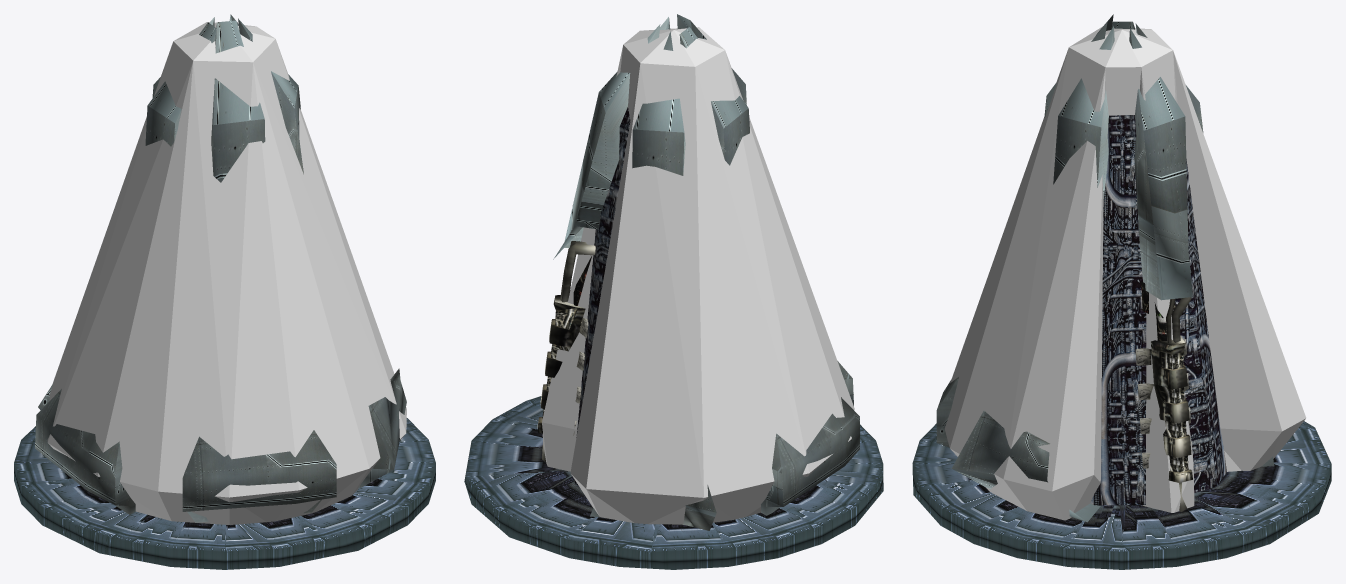
Rendered from RotatorCouplingAssy.fbx.
3 views of the same model, side by side, from view 1: azimuth 30°, elevation 25°; view 2: azimuth 150°, elevation 25°; view 3: azimuth 270°, elevation 25° (orthographic).
Parts seen in each view (by area): view 1: RotatorCOLLMISH, Circle.006, RotatorCoupling; view 2: RotatorCOLLMISH, Circle.006, RotatorCoupling; view 3: RotatorCOLLMISH, RotatorCoupling, Circle.006.
Boxes of the visible parts, x1,y1,x2,y2 form: RotatorCOLLMISH: [47, 22, 406, 524]; Circle.006: [14, 418, 435, 569]; RotatorCoupling: [35, 14, 406, 522]; RotatorCOLLMISH: [542, 27, 854, 524]; Circle.006: [464, 396, 883, 569]; RotatorCoupling: [537, 14, 859, 530]; RotatorCOLLMISH: [944, 26, 1306, 520]; RotatorCoupling: [936, 14, 1274, 522]; Circle.006: [912, 421, 1331, 569].
Bounding box in the file's own units: 750 × 934 × 750.
